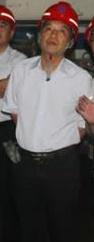hard-hat: (0, 5, 25, 44)
